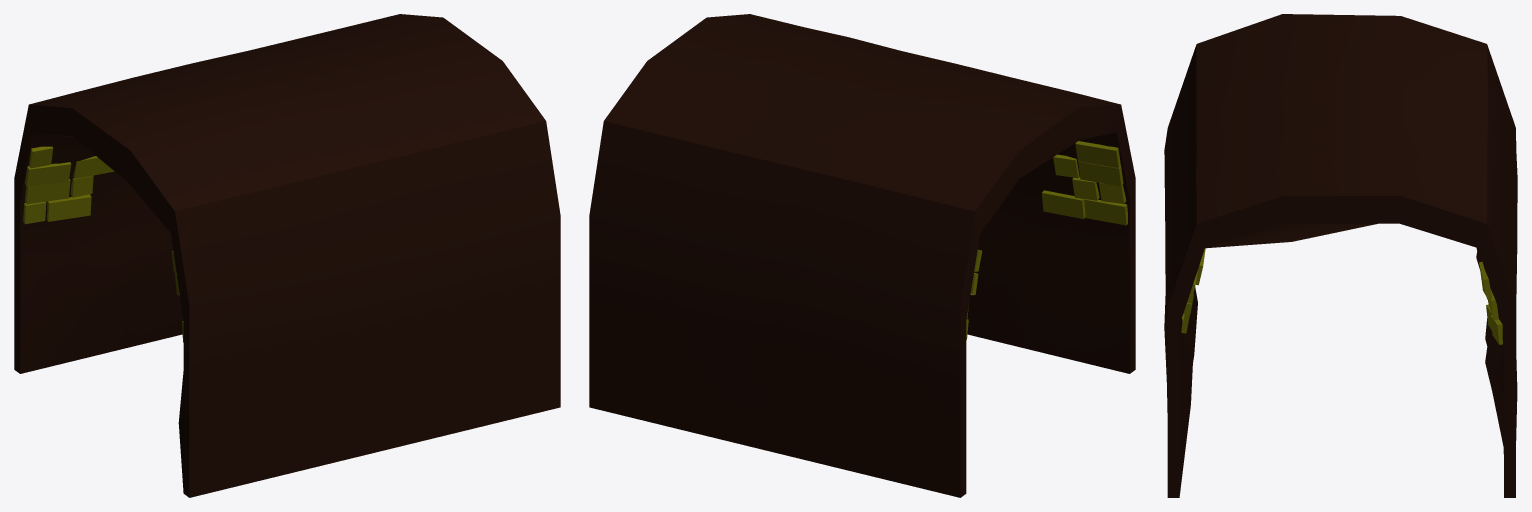
The model's file is Paroi_3.fbx.
3 renders of one model, left to right at view 1: azimuth 30°, elevation 25°; view 2: azimuth 150°, elevation 25°; view 3: azimuth 270°, elevation 25°, orthographic.
Visible parts, largest first — view 1: paroi3; view 2: paroi3; view 3: paroi3.
Boxes of the visible parts, bbox=[...] form: paroi3: bbox=[14, 14, 560, 497]; paroi3: bbox=[589, 14, 1135, 497]; paroi3: bbox=[1164, 14, 1517, 497].
Size of the model in its own units: 403 by 317 by 332.
